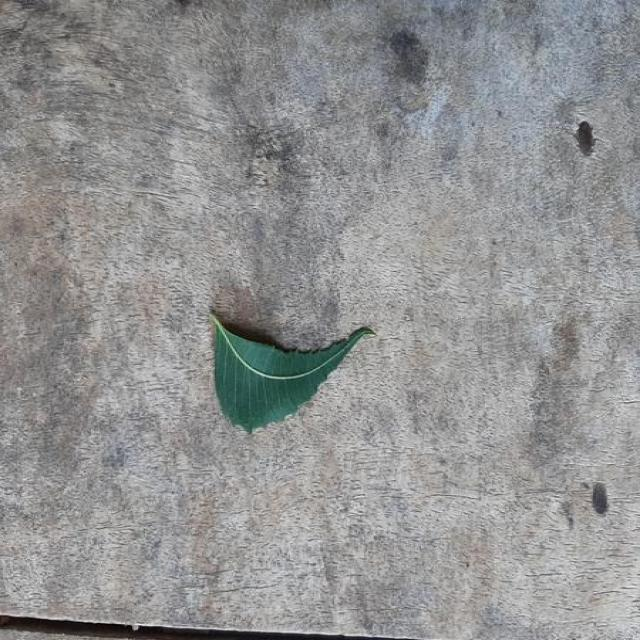neem: (210, 316, 375, 432)
